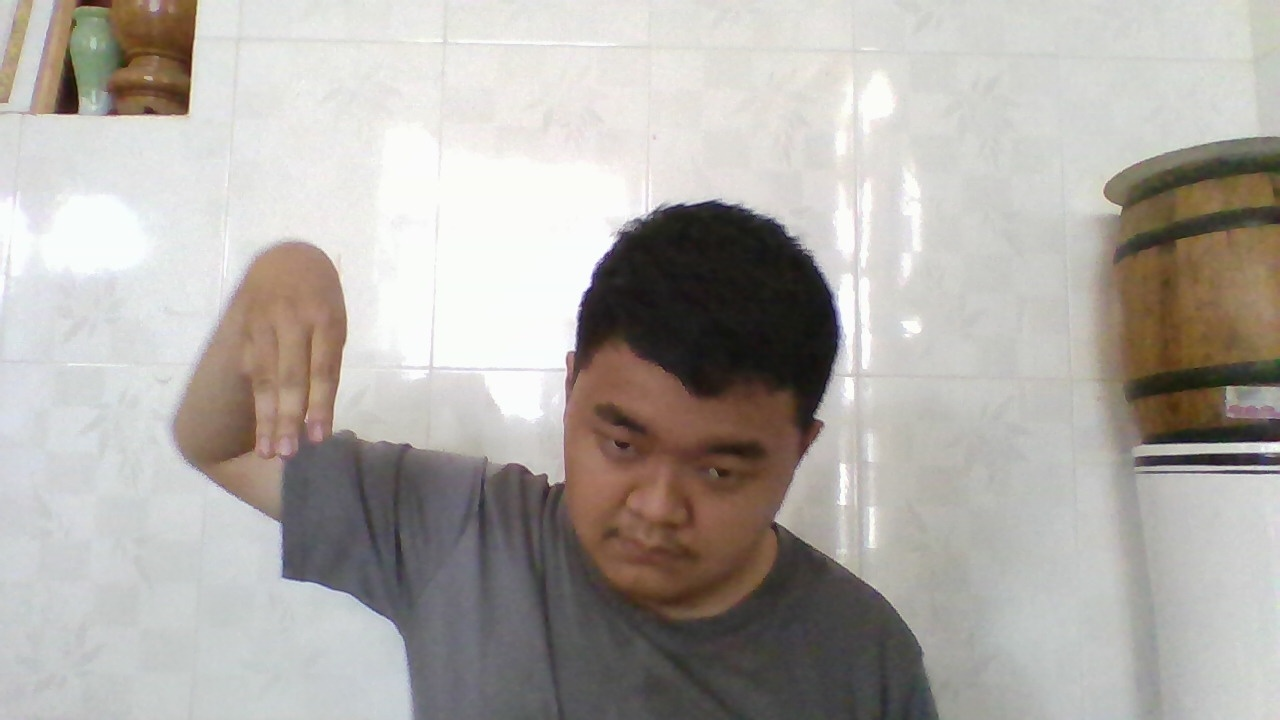M: (225, 237, 351, 469)
